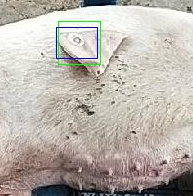text: (58, 21, 100, 64)
